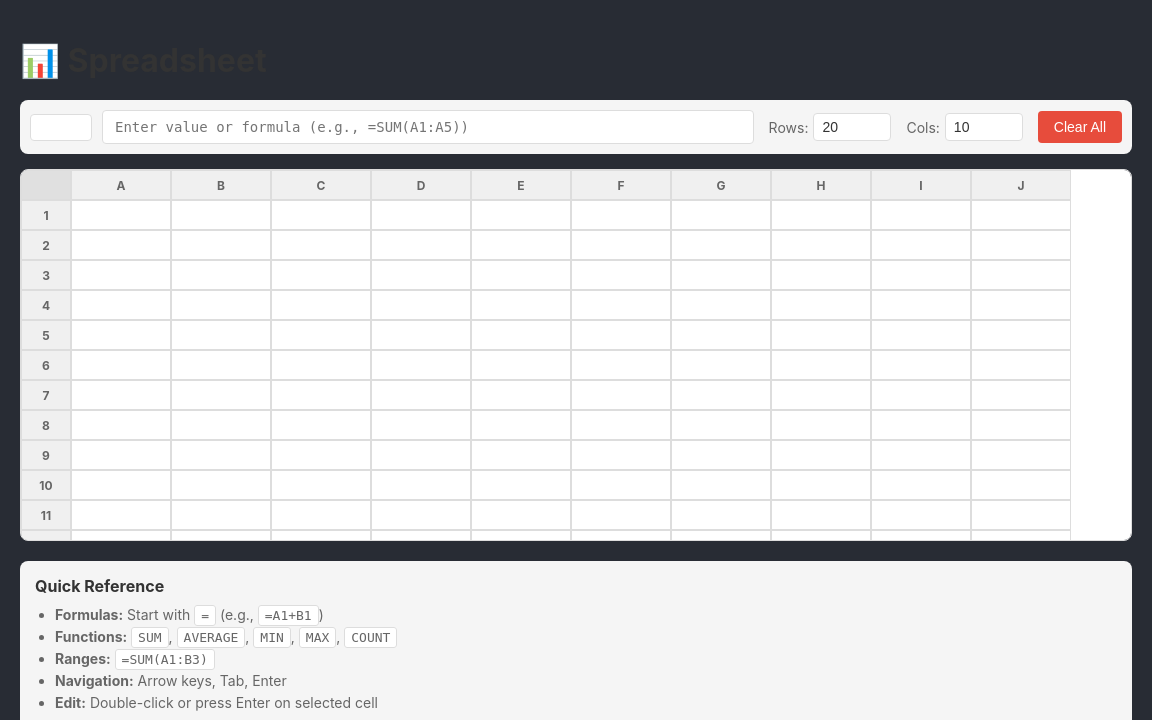
Test: SpreadsheetPage › enters edit mode on double click
Double-click the element with test id "cell-A1" at [121, 215], box [71, 200, 171, 230]
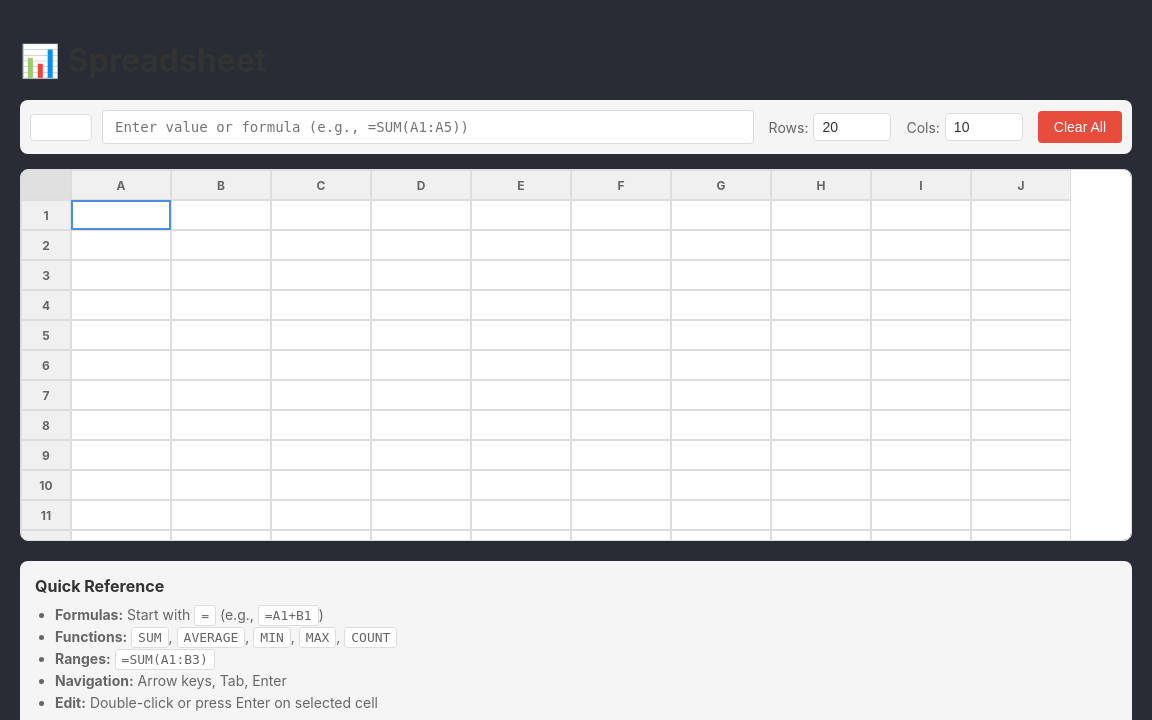
Result: the field with test id "input-A1" is shown at [72, 201, 171, 230]
